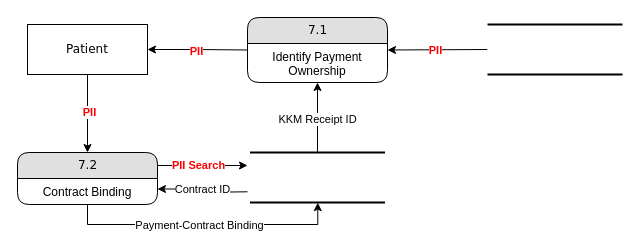
Some shapes in this 641 by 250 pixel diagram are drawn without their labels. Here are the shapes that lost their labels. From the top down, the centre of each, then its label:
the point at 554,49: Payments Excel file
the point at 317,177: 1C File DB
